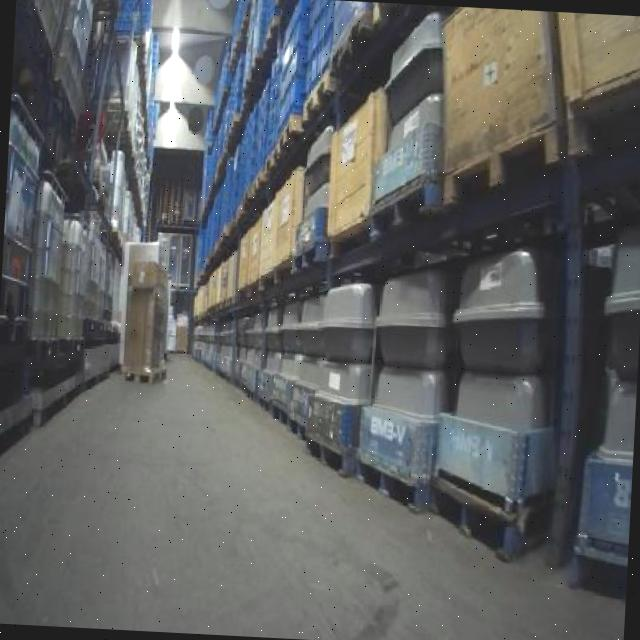pallet: (425, 456, 548, 567), (439, 114, 569, 218), (348, 444, 434, 523), (362, 166, 437, 248), (299, 424, 361, 487), (293, 64, 346, 131), (116, 363, 171, 389)
